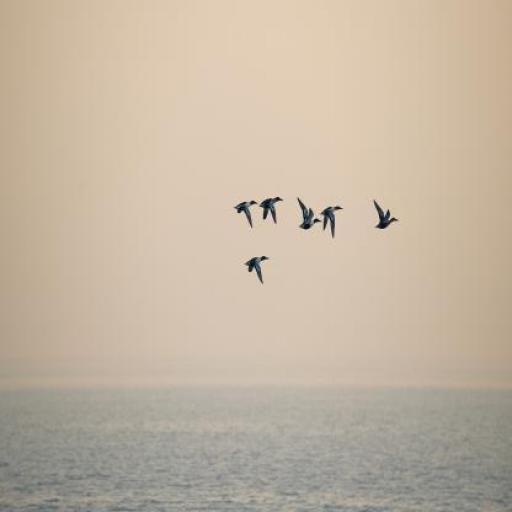bird: (298, 196, 322, 230), (373, 200, 399, 230), (319, 206, 343, 238), (259, 196, 283, 224), (234, 201, 258, 229), (245, 256, 269, 284)
